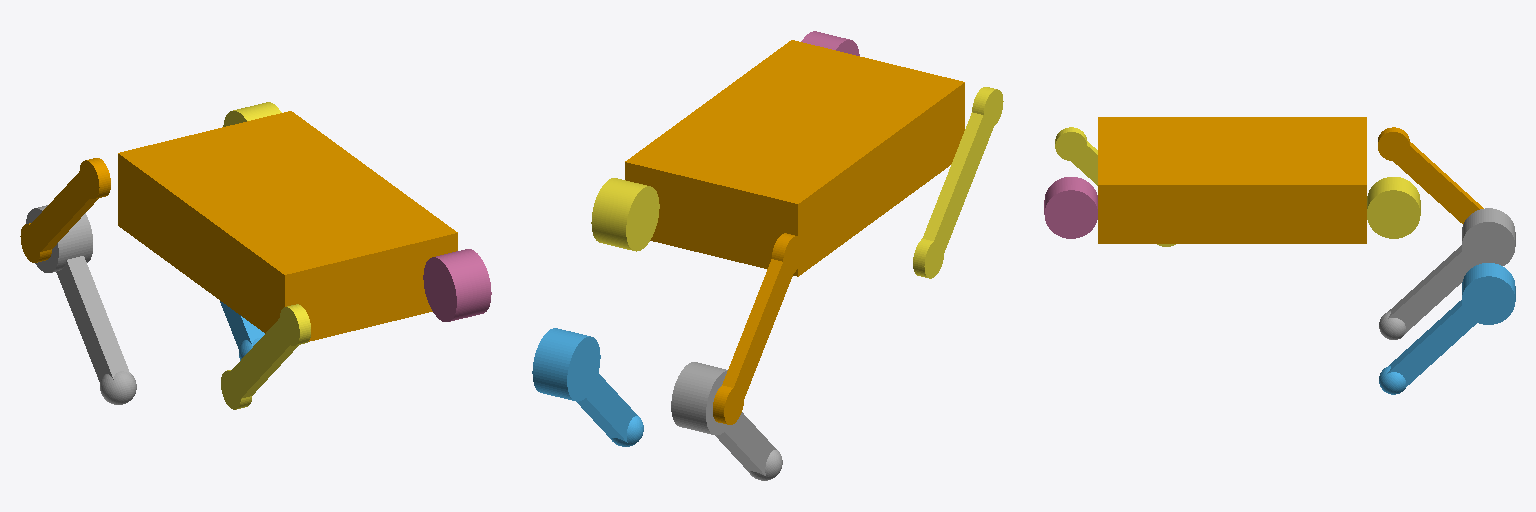
robot.urdf — for:
<?xml version='1.0' encoding='utf-8'?>
<robot name="for">
    <link name="BODY">
        <inertial>
            <origin xyz="0.0 0.0 0.06" rpy="0.0 0.0 0.0" />
            <mass value="25.73999999999999" />
            <inertia ixx="0.5671379999999995" iyy="0.22393800000000003" izz="0.7292999999999994" ixy="0.0" iyz="0.0" ixz="-3.3294782042503356e-17" />
        </inertial>
        <visual name="BODY_visual">
            <origin xyz="0.0 0.0 0.0" rpy="0.0 0.0 0.0" />
            <geometry>
                <mesh filename="meshes/BODY.stl" scale="0.001 0.001 0.001" />
            </geometry>
        </visual>
        <collision name="BODY_collision">
            <origin xyz="0.0 0.0 0.0" rpy="0.0 0.0 0.0" />
            <geometry>
                <mesh filename="meshes/BODY.stl" scale="0.001 0.001 0.001" />
            </geometry>
        </collision>
    </link>
    <link name="BL_DOWNLEG">
        <inertial>
            <origin xyz="-0.04876893730103509 -0.04876894670776217 0.029999999999999877" rpy="0.0 -0.0 0.0" />
            <mass value="2.1616981997332476" />
            <inertia ixx="0.01067513449584084" iyy="0.010675134495841076" izz="0.0204168041982416" ixy="-0.009264345441016838" iyz="1.3877787807814455e-17" ixz="-7.63278329429795e-17" />
        </inertial>
        <visual name="BL_DOWNLEG_visual">
            <origin xyz="0.34648232748477137 -0.07778175063388382 0.14999999999999994" rpy="-0.7853981633974481 1.5707963267948961 0" />
            <geometry>
                <mesh filename="meshes/BL_DOWNLEG.stl" scale="0.001 0.001 0.001" />
            </geometry>
        </visual>
        <collision name="BL_DOWNLEG_collision">
            <origin xyz="0.34648232748477137 -0.07778175063388382 0.14999999999999994" rpy="-0.7853981633974481 1.5707963267948961 0" />
            <geometry>
                <mesh filename="meshes/BL_DOWNLEG.stl" scale="0.001 0.001 0.001" />
            </geometry>
        </collision>
    </link>
    <link name="BL_LEG">
        <inertial>
            <origin xyz="-0.08838834764831845 -0.08838834764831838 0.009999999999999946" rpy="0.0 -0.0 0.0" />
            <mass value="0.7822123542077758" />
            <inertia ixx="0.00328889490198922" iyy="0.0032888949019892165" izz="0.006525642313697844" ixy="-0.003111502172424334" iyz="-8.326672684688674e-17" ixz="1.0972125985553305e-16" />
        </inertial>
        <visual name="BL_LEG_visual">
            <origin xyz="-0.2545584412271565 0.16970562748477075 -0.15000000000000005" rpy="-2.3561944901923435 -1.5707963267948961 0" />
            <geometry>
                <mesh filename="meshes/BL_LEG.stl" scale="0.001 0.001 0.001" />
            </geometry>
        </visual>
        <collision name="BL_LEG_collision">
            <origin xyz="-0.2545584412271565 0.16970562748477075 -0.15000000000000005" rpy="-2.3561944901923435 -1.5707963267948961 0" />
            <geometry>
                <mesh filename="meshes/BL_LEG.stl" scale="0.001 0.001 0.001" />
            </geometry>
        </collision>
    </link>
    <link name="BL_MOTOR">
        <inertial>
            <origin xyz="-8.881784197001253e-18 -0.03000000000000002 0.04999999999999989" rpy="0.0 -0.0 0.0" />
            <mass value="1.2723450247038663" />
            <inertia ixx="0.0011769191478511187" iyy="0.0015904312808798643" izz="0.001176919147851091" ixy="-3.469446951953614e-18" iyz="-2.0816681711721685e-17" ixz="6.938893903907228e-18" />
        </inertial>
        <visual name="BL_MOTOR_visual">
            <origin xyz="-0.06 -0.15 -0.25" rpy="1.5707963267948966 -0.0 1.5707963267948966" />
            <geometry>
                <mesh filename="meshes/BL_MOTOR.stl" scale="0.001 0.001 0.001" />
            </geometry>
        </visual>
        <collision name="BL_MOTOR_collision">
            <origin xyz="-0.06 -0.15 -0.25" rpy="1.5707963267948966 -0.0 1.5707963267948966" />
            <geometry>
                <mesh filename="meshes/BL_MOTOR.stl" scale="0.001 0.001 0.001" />
            </geometry>
        </collision>
    </link>
    <link name="FL_DOWNLEG2">
        <inertial>
            <origin xyz="-0.04876893730103552 -0.04876894670776176 0.030000000000000054" rpy="0.0 -0.0 0.0" />
            <mass value="2.161698199733248" />
            <inertia ixx="0.010675134495840857" iyy="0.010675134495840927" izz="0.020416804198242433" ixy="-0.009264345441016918" iyz="-1.1102230246251565e-16" ixz="2.0816681711721685e-16" />
        </inertial>
        <visual name="FL_DOWNLEG2_visual">
            <origin xyz="-0.07778174122715724 0.346482318078045 0.15" rpy="2.356194490192345 1.5707963267948966 0" />
            <geometry>
                <mesh filename="meshes/FL_DOWNLEG2.stl" scale="0.001 0.001 0.001" />
            </geometry>
        </visual>
        <collision name="FL_DOWNLEG2_collision">
            <origin xyz="-0.07778174122715724 0.346482318078045 0.15" rpy="2.356194490192345 1.5707963267948966 0" />
            <geometry>
                <mesh filename="meshes/FL_DOWNLEG2.stl" scale="0.001 0.001 0.001" />
            </geometry>
        </collision>
    </link>
    <link name="FL_LEG2">
        <inertial>
            <origin xyz="-0.08838834764831847 -0.08838834764831852 0.01" rpy="0.0 -0.0 0.0" />
            <mass value="0.7822123542077758" />
            <inertia ixx="0.003288894901989192" iyy="0.003288894901989192" izz="0.006525642313697962" ixy="-0.0031115021724244752" iyz="-6.938893903907228e-18" ixz="1.734723475976807e-18" />
        </inertial>
        <visual name="FL_LEG2_visual">
            <origin xyz="0.16970562748477103 -0.254558441227157 -0.15" rpy="0.7853981633974484 -1.5707963267948966 0" />
            <geometry>
                <mesh filename="meshes/FL_LEG2.stl" scale="0.001 0.001 0.001" />
            </geometry>
        </visual>
        <collision name="FL_LEG2_collision">
            <origin xyz="0.16970562748477103 -0.254558441227157 -0.15" rpy="0.7853981633974484 -1.5707963267948966 0" />
            <geometry>
                <mesh filename="meshes/FL_LEG2.stl" scale="0.001 0.001 0.001" />
            </geometry>
        </collision>
    </link>
    <link name="FL_MOTOR2">
        <inertial>
            <origin xyz="8.881784197001253e-18 0.029999999999999964 0.04999999999999989" rpy="0.0 -0.0 0.0" />
            <mass value="1.2723450247038663" />
            <inertia ixx="0.0011769191478510632" iyy="0.0015904312808798643" izz="0.0011769191478510632" ixy="1.5612511283791264e-17" iyz="-3.469446951953614e-17" ixz="-2.0816681711721685e-17" />
        </inertial>
        <visual name="FL_MOTOR2_visual">
            <origin xyz="-0.05999999999999999 0.15 -0.24999999999999994" rpy="1.5707963267948963 -1.665334536937735e-16 -1.5707963267948968" />
            <geometry>
                <mesh filename="meshes/FL_MOTOR2.stl" scale="0.001 0.001 0.001" />
            </geometry>
        </visual>
        <collision name="FL_MOTOR2_collision">
            <origin xyz="-0.05999999999999999 0.15 -0.24999999999999994" rpy="1.5707963267948963 -1.665334536937735e-16 -1.5707963267948968" />
            <geometry>
                <mesh filename="meshes/FL_MOTOR2.stl" scale="0.001 0.001 0.001" />
            </geometry>
        </collision>
    </link>
    <link name="BR_DOWNLEG3">
        <inertial>
            <origin xyz="-0.04876893730103509 -0.048768946707761746 -0.030000000000000037" rpy="0.0 -0.0 0.0" />
            <mass value="2.161698199733248" />
            <inertia ixx="0.01067513449584101" iyy="0.010675134495840219" izz="0.02041680419824099" ixy="-0.009264345441017008" iyz="-6.938893903907228e-17" ixz="-2.0816681711721685e-17" />
        </inertial>
        <visual name="BR_DOWNLEG3_visual">
            <origin xyz="0.34648232748477187 -0.07778175063388325 -0.14999999999999988" rpy="0.7853981633974485 -1.5707963267948963 0" />
            <geometry>
                <mesh filename="meshes/BR_DOWNLEG3.stl" scale="0.001 0.001 0.001" />
            </geometry>
        </visual>
        <collision name="BR_DOWNLEG3_collision">
            <origin xyz="0.34648232748477187 -0.07778175063388325 -0.14999999999999988" rpy="0.7853981633974485 -1.5707963267948963 0" />
            <geometry>
                <mesh filename="meshes/BR_DOWNLEG3.stl" scale="0.001 0.001 0.001" />
            </geometry>
        </collision>
    </link>
    <link name="BR_LEG3">
        <inertial>
            <origin xyz="-0.08838834764831838 -0.08838834764831816 -0.009999999999999912" rpy="0.0 -0.0 0.0" />
            <mass value="0.7822123542077758" />
            <inertia ixx="0.003288894901989081" iyy="0.003288894901989064" izz="0.006525642313697594" ixy="-0.003111502172424707" iyz="2.0816681711721685e-17" ixz="-2.2985086056692694e-17" />
        </inertial>
        <visual name="BR_LEG3_visual">
            <origin xyz="-0.25455844122715704 0.16970562748477153 0.14999999999999994" rpy="2.3561944901923453 1.5707963267948966 0" />
            <geometry>
                <mesh filename="meshes/BR_LEG3.stl" scale="0.001 0.001 0.001" />
            </geometry>
        </visual>
        <collision name="BR_LEG3_collision">
            <origin xyz="-0.25455844122715704 0.16970562748477153 0.14999999999999994" rpy="2.3561944901923453 1.5707963267948966 0" />
            <geometry>
                <mesh filename="meshes/BR_LEG3.stl" scale="0.001 0.001 0.001" />
            </geometry>
        </collision>
    </link>
    <link name="BR_MOTOR3">
        <inertial>
            <origin xyz="8.881784197001253e-18 0.030000000000000054 0.04999999999999989" rpy="0.0 -0.0 0.0" />
            <mass value="1.2723450247038663" />
            <inertia ixx="0.001176919147851091" iyy="0.0015904312808799337" izz="0.0011769191478510355" ixy="-5.204170427930421e-18" iyz="-2.7755575615628914e-17" ixz="-3.469446951953614e-18" />
        </inertial>
        <visual name="BR_MOTOR3_visual">
            <origin xyz="-0.060000000000000026 0.15000000000000013 -0.25000000000000006" rpy="1.5707963267948966 -2.220446049250312e-16 -1.5707963267948966" />
            <geometry>
                <mesh filename="meshes/BR_MOTOR3.stl" scale="0.001 0.001 0.001" />
            </geometry>
        </visual>
        <collision name="BR_MOTOR3_collision">
            <origin xyz="-0.060000000000000026 0.15000000000000013 -0.25000000000000006" rpy="1.5707963267948966 -2.220446049250312e-16 -1.5707963267948966" />
            <geometry>
                <mesh filename="meshes/BR_MOTOR3.stl" scale="0.001 0.001 0.001" />
            </geometry>
        </collision>
    </link>
    <link name="BR_DOWNLEG4">
        <inertial>
            <origin xyz="-0.048768937301035445 -0.04876894670776233 -0.029999999999999877" rpy="0.0 -0.0 0.0" />
            <mass value="2.1616981997332476" />
            <inertia ixx="0.010675134495840774" iyy="0.010675134495840857" izz="0.02041680419824174" ixy="-0.009264345441016952" iyz="1.387778780781446e-17" ixz="-2.7755575615628914e-17" />
        </inertial>
        <visual name="BR_DOWNLEG4_visual">
            <origin xyz="-0.07778174122715724 0.3464823180780447 -0.1499999999999996" rpy="-2.356194490192345 -1.5707963267948957 0" />
            <geometry>
                <mesh filename="meshes/BR_DOWNLEG4.stl" scale="0.001 0.001 0.001" />
            </geometry>
        </visual>
        <collision name="BR_DOWNLEG4_collision">
            <origin xyz="-0.07778174122715724 0.3464823180780447 -0.1499999999999996" rpy="-2.356194490192345 -1.5707963267948957 0" />
            <geometry>
                <mesh filename="meshes/BR_DOWNLEG4.stl" scale="0.001 0.001 0.001" />
            </geometry>
        </collision>
    </link>
    <link name="FR_LEG4">
        <inertial>
            <origin xyz="-0.08838834764831852 -0.08838834764831816 -0.010000000000000071" rpy="3.0385816786431356e-64 -0.0 0.0" />
            <mass value="0.7822123542077758" />
            <inertia ixx="0.003288894901989199" iyy="0.003288894901989199" izz="0.006525642313697837" ixy="-0.0031115021724246643" iyz="6.938893903907228e-17" ixz="-7.502679033599691e-17" />
        </inertial>
        <visual name="FR_LEG4_visual">
            <origin xyz="0.16970562748477128 -0.254558441227157 0.1499999999999997" rpy="-0.7853981633974477 1.5707963267948961 0" />
            <geometry>
                <mesh filename="meshes/FR_LEG4.stl" scale="0.001 0.001 0.001" />
            </geometry>
        </visual>
        <collision name="FR_LEG4_collision">
            <origin xyz="0.16970562748477128 -0.254558441227157 0.1499999999999997" rpy="-0.7853981633974477 1.5707963267948961 0" />
            <geometry>
                <mesh filename="meshes/FR_LEG4.stl" scale="0.001 0.001 0.001" />
            </geometry>
        </collision>
    </link>
    <link name="FR_MOTOR4">
        <inertial>
            <origin xyz="8.881784197001253e-18 -0.030000000000000054 0.05000000000000011" rpy="0.0 -0.0 0.0" />
            <mass value="1.2723450247038663" />
            <inertia ixx="0.0011769191478511465" iyy="0.0015904312808798227" izz="0.0011769191478510632" ixy="-1.5612511283791264e-17" iyz="2.0816681711721685e-17" ixz="1.734723475976807e-17" />
        </inertial>
        <visual name="FR_MOTOR4_visual">
            <origin xyz="-0.06000000000000009 -0.1500000000000002 -0.2500000000000002" rpy="1.5707963267948968 -3.3306690738754686e-16 1.5707963267948968" />
            <geometry>
                <mesh filename="meshes/FR_MOTOR4.stl" scale="0.001 0.001 0.001" />
            </geometry>
        </visual>
        <collision name="FR_MOTOR4_collision">
            <origin xyz="-0.06000000000000009 -0.1500000000000002 -0.2500000000000002" rpy="1.5707963267948968 -3.3306690738754686e-16 1.5707963267948968" />
            <geometry>
                <mesh filename="meshes/FR_MOTOR4.stl" scale="0.001 0.001 0.001" />
            </geometry>
        </collision>
    </link>
    <joint name="BODY_Revolute-1" type="continuous">
        <origin xyz="0.15 0.25 0.06" rpy="-1.5707963267948966 -1.5707963267948966 0" />
        <parent link="BODY" />
        <child link="BL_MOTOR" />
        <axis xyz="0.0 0.0 1.0" />
    </joint>
    <joint name="BL_MOTOR_Revolute-2" type="continuous">
        <origin xyz="0.0 0.0 0.05" rpy="-1.5707963267948966 -0.0 0.0" />
        <parent link="BL_MOTOR" />
        <child link="BL_LEG" />
        <axis xyz="0.0 0.0 1.0" />
    </joint>
    <joint name="BL_LEG_Revolute-3" type="continuous">
        <origin xyz="-0.17677669999999998 -0.17677669999999998 0.0" rpy="3.141592653589793 -0.0 0.0" />
        <parent link="BL_LEG" />
        <child link="BL_DOWNLEG" />
        <axis xyz="-0.0 -0.0 1.0" />
    </joint>
    <joint name="BODY_Revolute-4" type="continuous">
        <origin xyz="-0.15 0.25 0.06" rpy="-1.5707963267948966 -1.5707963267948966 0" />
        <parent link="BODY" />
        <child link="BR_MOTOR3" />
        <axis xyz="0.0 0.0 1.0" />
    </joint>
    <joint name="BR_MOTOR3_Revolute-5" type="continuous">
        <origin xyz="0.0 0.0 0.05" rpy="-1.5707963267948966 -0.0 0.0" />
        <parent link="BR_MOTOR3" />
        <child link="BR_LEG3" />
        <axis xyz="0.0 -7.49879891330929e-33 -1.0" />
    </joint>
    <joint name="BR_LEG3_Revolute-6" type="continuous">
        <origin xyz="-0.17677669999999998 -0.17677669999999998 0.0" rpy="3.141592653589793 2.465190328815662e-32 4.29331795099739e-65" />
        <parent link="BR_LEG3" />
        <child link="BR_DOWNLEG3" />
        <axis xyz="-2.465190328815662e-32 0.0 -1.0" />
    </joint>
    <joint name="BODY_Revolute-7" type="continuous">
        <origin xyz="0.15 -0.25 0.06" rpy="1.5707963267948966 -1.5707963267948966 0" />
        <parent link="BODY" />
        <child link="FL_MOTOR2" />
        <axis xyz="0.0 0.0 1.0" />
    </joint>
    <joint name="FL_MOTOR2_Revolute-8" type="continuous">
        <origin xyz="0.0 0.0 0.05" rpy="1.5707963267948966 -4.930380657631324e-32 0.0" />
        <parent link="FL_MOTOR2" />
        <child link="FL_LEG2" />
        <axis xyz="0.0 -1.7153104374847325e-32 1.0" />
    </joint>
    <joint name="FL_LEG2_Revolute-9" type="continuous">
        <origin xyz="-0.17677669999999998 -0.17677669999999998 0.0" rpy="-3.141592653589793 8.45713340280785e-64 -4.930380657631324e-32" />
        <parent link="FL_LEG2" />
        <child link="FL_DOWNLEG2" />
        <axis xyz="0.0 -1.5407439555097887e-33 1.0" />
    </joint>
    <joint name="BODY_Revolute-10" type="continuous">
        <origin xyz="-0.15 -0.25 0.06" rpy="1.5707963267948966 -1.5707963267948966 0" />
        <parent link="BODY" />
        <child link="FR_MOTOR4" />
        <axis xyz="0.0 0.0 1.0" />
    </joint>
    <joint name="FR_MOTOR4_Revolute-11" type="continuous">
        <origin xyz="0.0 0.0 0.05" rpy="1.5707963267948966 -1.232595164407831e-32 1.232595164407831e-32" />
        <parent link="FR_MOTOR4" />
        <child link="FR_LEG4" />
        <axis xyz="1.232595164407831e-32 4.827152730769016e-33 -1.0" />
    </joint>
    <joint name="FR_LEG4_Revolute-12" type="continuous">
        <origin xyz="-0.17677669999999998 -0.17677669999999998 0.0" rpy="-3.141592653589793 -1.232595164407831e-32 -1.232595164407831e-32" />
        <parent link="FR_LEG4" />
        <child link="BR_DOWNLEG4" />
        <axis xyz="0.0 -1.232595164407831e-31 -1.0" />
    </joint>
</robot>

--- What the picture shows (computed from the rendered views, not written in the file) ---
Views: 3 orthographic renders of the robot side by side, from view 1: azimuth 30°, elevation 25°; view 2: azimuth 150°, elevation 25°; view 3: azimuth 270°, elevation 25°.
Robot: for — 13 links, 12 joints (12 continuous); root link BODY; default pose: every joint at zero.
Links seen in each view (by area): view 1: BODY, BR_DOWNLEG3, FR_LEG4, BR_LEG3, FL_MOTOR2, BL_DOWNLEG, BL_MOTOR; view 2: BODY, BL_DOWNLEG, BR_LEG3, FR_LEG4, BR_DOWNLEG3, BL_MOTOR, FL_MOTOR2; view 3: BODY, BL_DOWNLEG, BR_DOWNLEG3, BR_LEG3, FL_MOTOR2, BL_MOTOR, FR_LEG4.
Link boxes in pixels (x1=…): BODY: x1=118, y1=111, x2=457, y2=341; BR_DOWNLEG3: x1=26, y1=205, x2=136, y2=404; FR_LEG4: x1=221, y1=304, x2=310, y2=409; BR_LEG3: x1=20, y1=158, x2=110, y2=262; FL_MOTOR2: x1=423, y1=249, x2=491, y2=321; BL_DOWNLEG: x1=220, y1=301, x2=264, y2=360; BL_MOTOR: x1=223, y1=102, x2=281, y2=126; BODY: x1=625, y1=40, x2=964, y2=276; BL_DOWNLEG: x1=532, y1=328, x2=643, y2=446; BR_LEG3: x1=713, y1=233, x2=802, y2=424; FR_LEG4: x1=913, y1=87, x2=1003, y2=278; BR_DOWNLEG3: x1=671, y1=362, x2=782, y2=480; BL_MOTOR: x1=591, y1=178, x2=659, y2=251; FL_MOTOR2: x1=801, y1=31, x2=859, y2=55; BODY: x1=1098, y1=117, x2=1366, y2=243; BL_DOWNLEG: x1=1379, y1=263, x2=1515, y2=394; BR_DOWNLEG3: x1=1379, y1=208, x2=1515, y2=339; BR_LEG3: x1=1378, y1=127, x2=1483, y2=223; FL_MOTOR2: x1=1044, y1=177, x2=1097, y2=238; BL_MOTOR: x1=1367, y1=177, x2=1420, y2=238; FR_LEG4: x1=1055, y1=127, x2=1175, y2=246.
Bounding box of the posed robot: 0.32 × 0.8767 × 0.441 m (x, y, z).
7 mesh visuals loaded from 13 distinct referenced files (7 binary STL); not drawn: 6 (reference not matched to a file when rendering).
